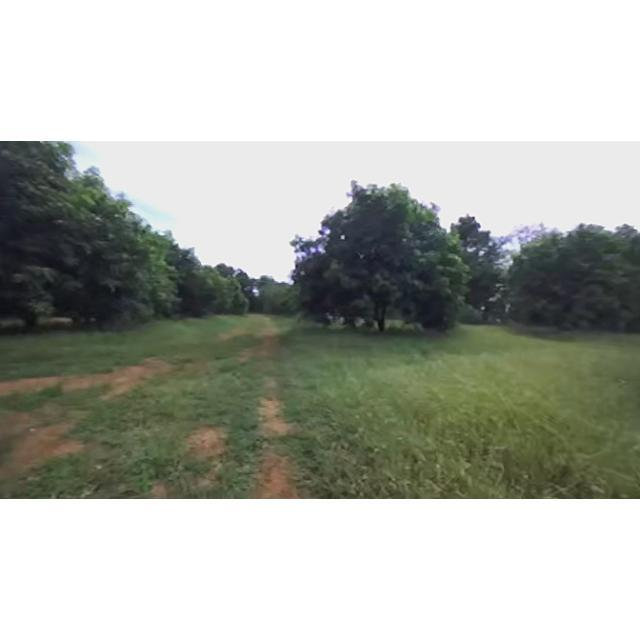direk: (282, 171, 460, 339), (0, 142, 140, 338), (502, 210, 636, 334), (96, 202, 184, 331), (430, 208, 506, 324), (193, 257, 257, 317), (247, 270, 299, 318)
